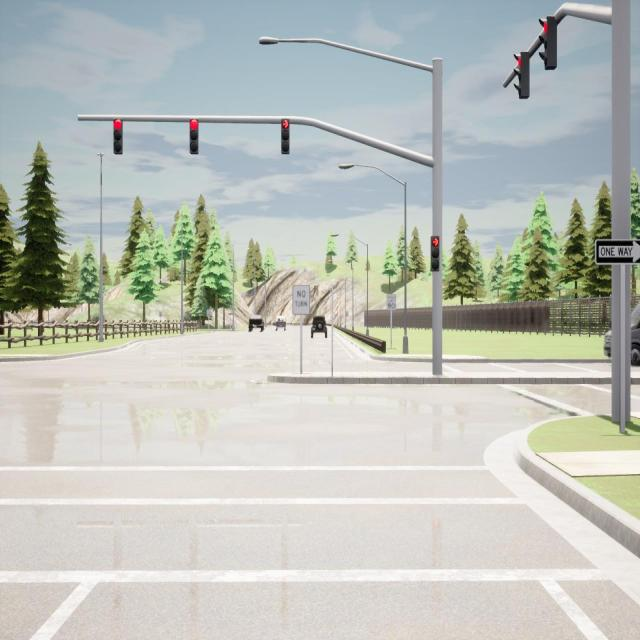Traffic_Signs: (595, 240, 640, 265), (293, 286, 309, 314), (387, 294, 396, 310), (207, 310, 210, 316), (159, 312, 162, 316)
Vehicle: (604, 297, 640, 364), (310, 316, 328, 338), (248, 314, 264, 332), (274, 316, 287, 331)
traffic_light: (538, 17, 556, 70), (514, 52, 530, 100), (430, 236, 440, 272), (189, 119, 199, 153), (114, 118, 123, 155), (281, 118, 290, 154)
